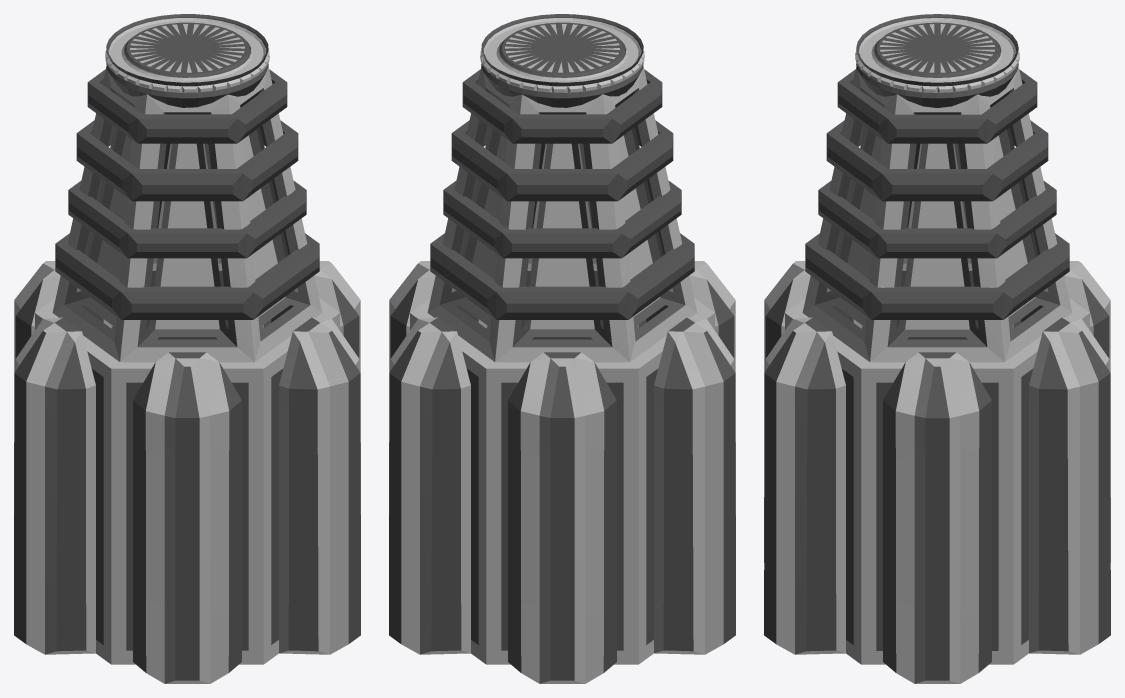
Rendered from tower_radar_base.dae.
3 views of the same model, side by side, from view 1: azimuth 30°, elevation 25°; view 2: azimuth 150°, elevation 25°; view 3: azimuth 270°, elevation 25° (orthographic).
Parts seen in each view (by area): view 1: tower_radar_base; view 2: tower_radar_base; view 3: tower_radar_base.
Boxes of the visible parts, x1=… form: tower_radar_base: x1=14, y1=14, x2=360, y2=683; tower_radar_base: x1=389, y1=14, x2=735, y2=683; tower_radar_base: x1=764, y1=14, x2=1110, y2=683.
Size of the model in its own units: 18.99 by 17.05 by 30.4.
